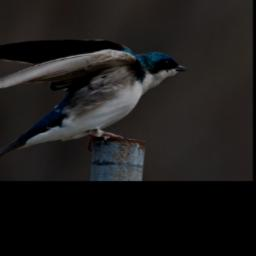Swallow: (0, 36, 189, 166)
